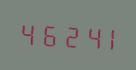four: (18, 17, 37, 48), (78, 20, 97, 51)
one: (98, 21, 117, 52)
six: (38, 18, 57, 49)
two: (58, 19, 77, 50)
